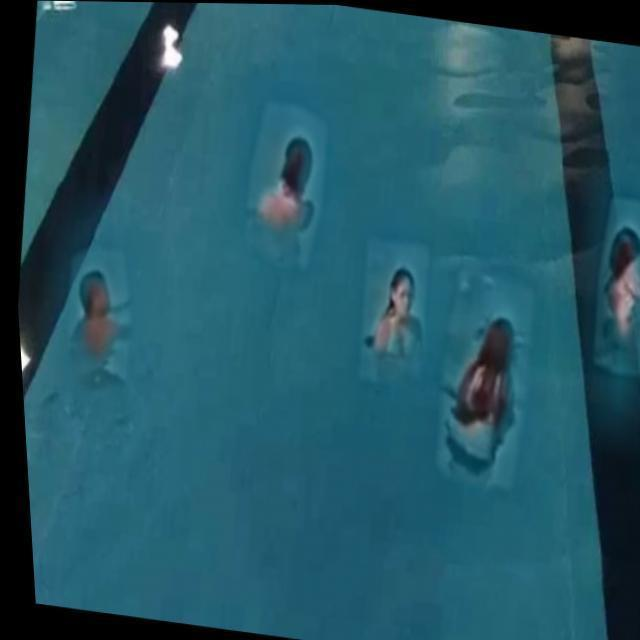swimming: (440, 297, 518, 479), (64, 263, 140, 386), (253, 128, 322, 253), (360, 264, 419, 376), (601, 216, 640, 348)
